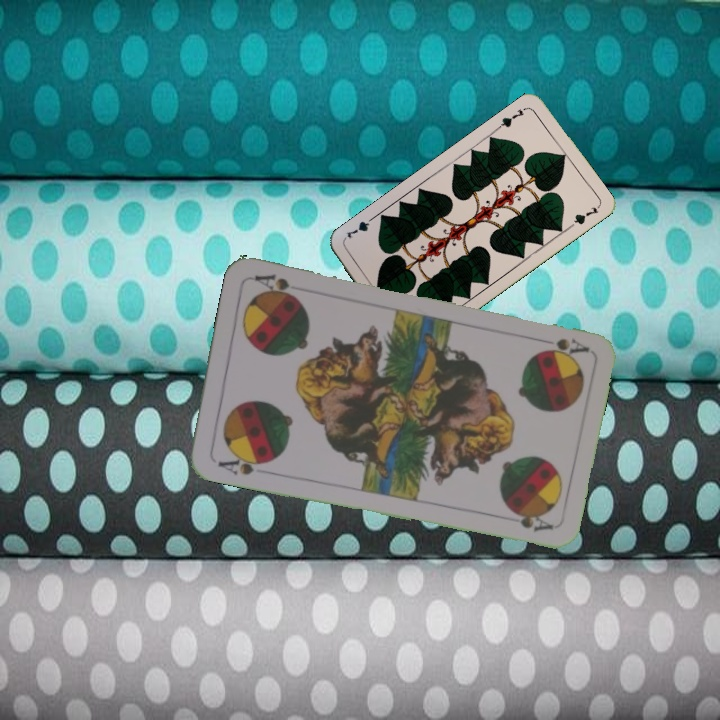G7: (494, 103, 530, 131)
SA: (214, 449, 271, 478), (532, 334, 591, 358)
